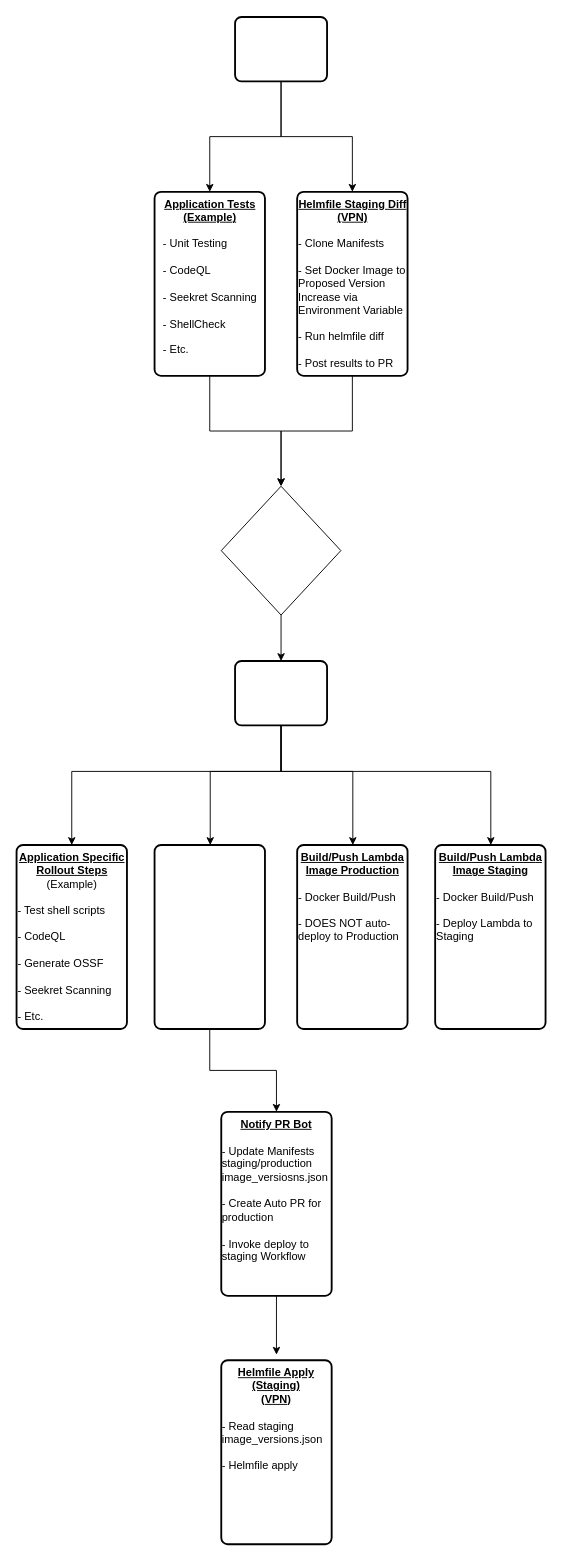
Some shapes in this 562 by 1560 pixel diagram are drawn without their labels. The box of each missing label's shape, as (x1, y1, x2, y2) in pixels:
Build/Push Test - Docker Build/Push: (153, 844, 265, 1029)
Merge To Main: (234, 660, 328, 726)
Pull Request: (234, 16, 328, 82)
Tests Passed and Approved?: (220, 485, 341, 615)
